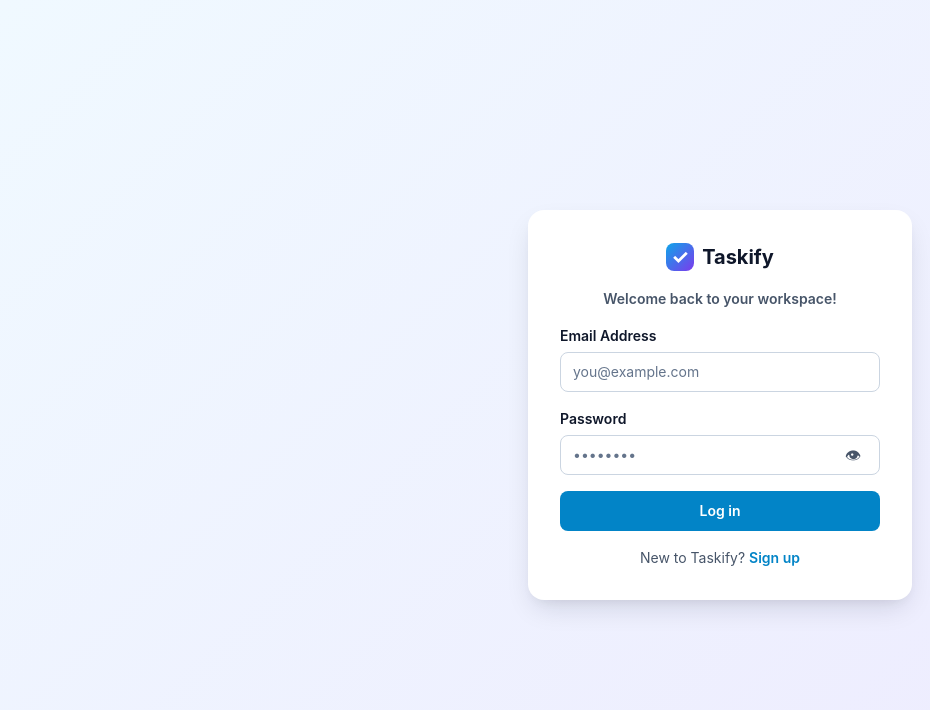
LoginPage › shows an inline error on bad credentials
Type "u-alex@acme.test" into the field labelled "Email Address". click: coordinates (720, 372)
box: [573,354,867,390]
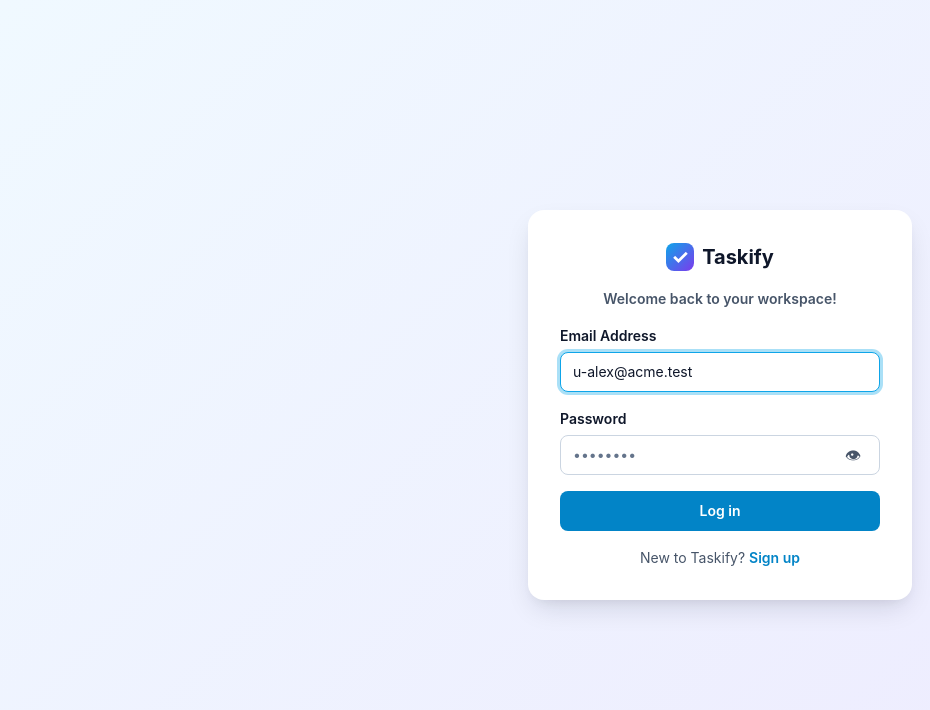
Type "wrongwrong" into the password field labelled "Password". click: coordinates (702, 455)
box: [573,437,831,473]
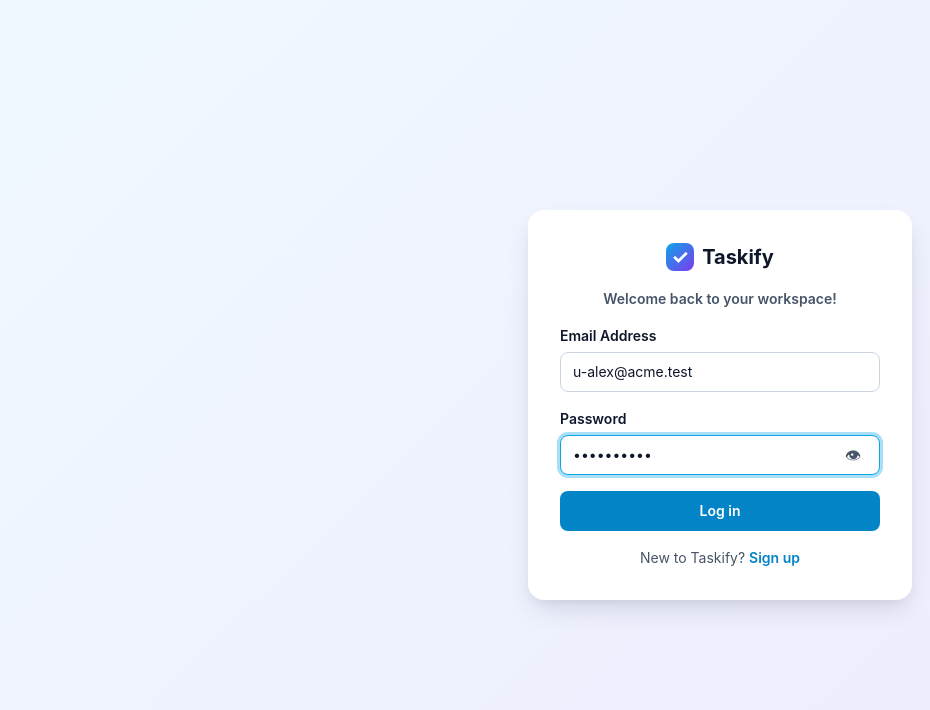
Click the button "Log in". click: coordinates (720, 511)
box: [560,491,880,531]
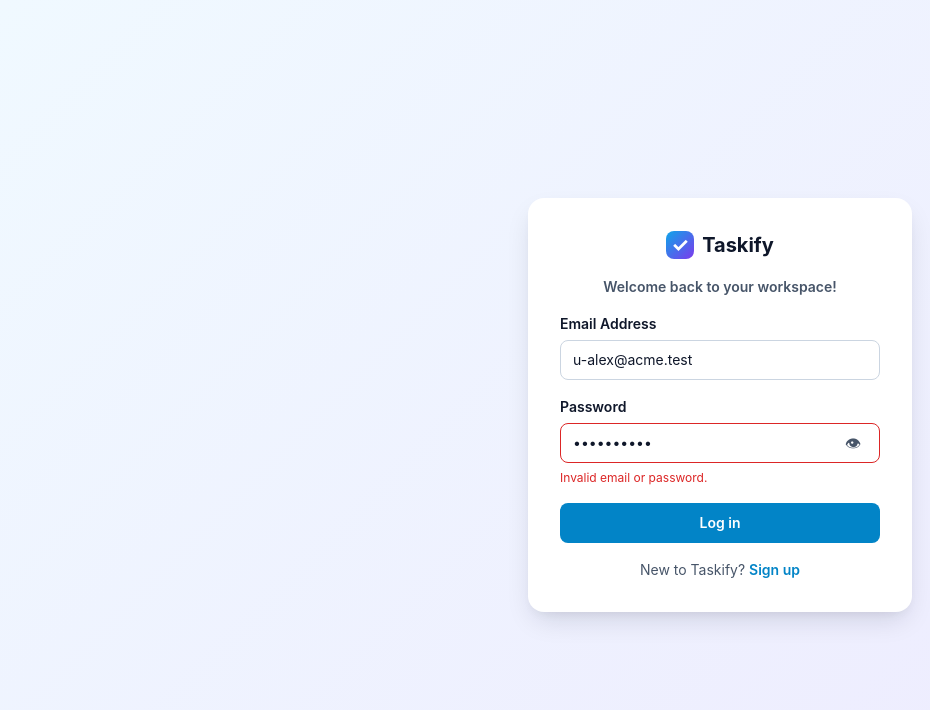
Expected: the text "Invalid email or password." is shown, [560,470,707,485]
